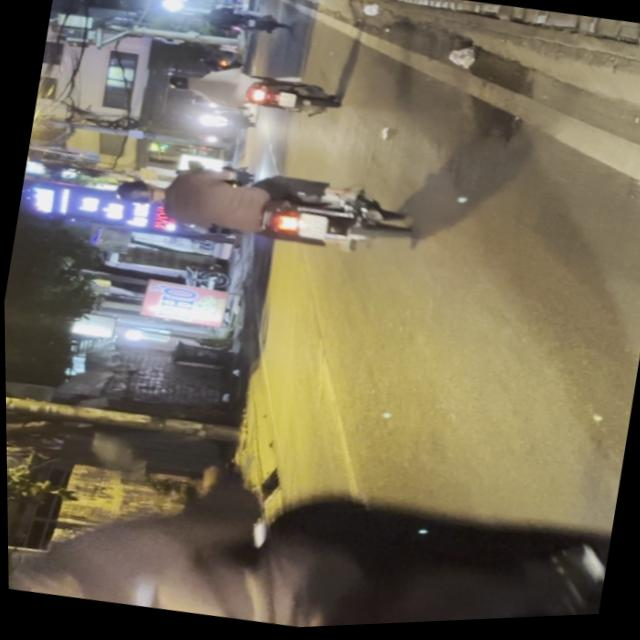helmet: (109, 176, 162, 212), (6, 544, 24, 590)
licenseplate: (5, 402, 605, 640), (103, 143, 414, 279)
nohelmet: (293, 215, 325, 244)
